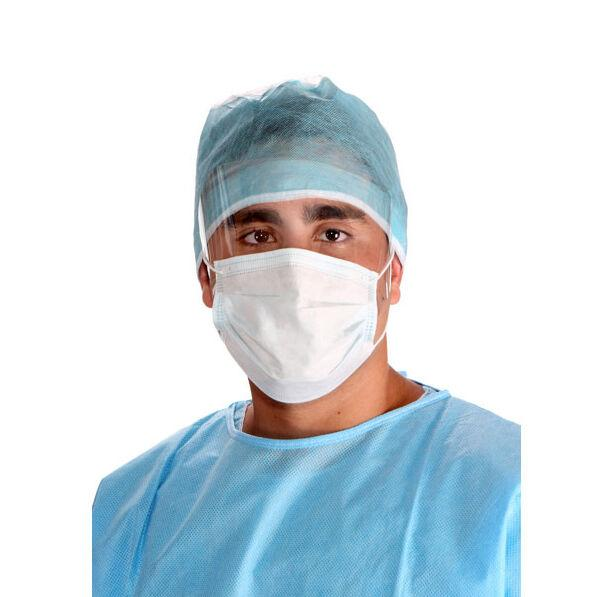Wearing Mask: (158, 53, 474, 425)
